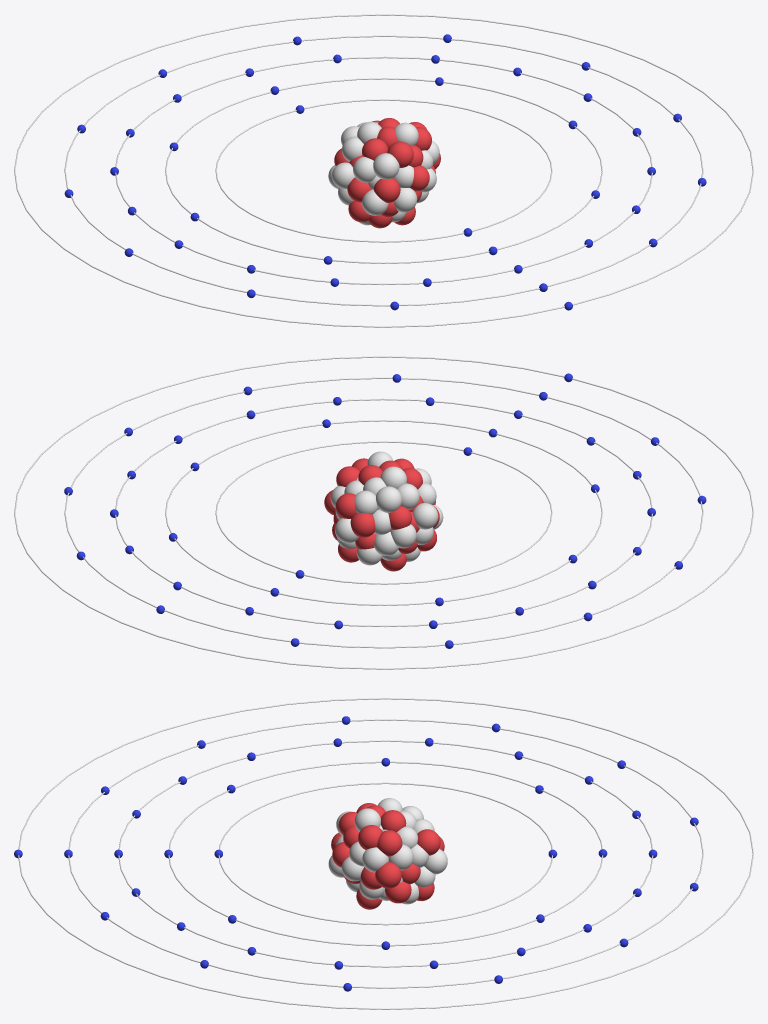
The model's file is Molybdän.glb.
3 views of the same model, one above another, from view 1: azimuth 30°, elevation 25°; view 2: azimuth 150°, elevation 25°; view 3: azimuth 270°, elevation 25° (orthographic).
Visible parts, largest first — view 1: O-Schale, N-Schale, M-Schale, L-Schale, K-Schale, Neutron 45; view 2: O-Schale, N-Schale, M-Schale, L-Schale, K-Schale, Neutron 53, Neutron 44, Proton 40; view 3: O-Schale, N-Schale, M-Schale, L-Schale, K-Schale, Proton 38.
Boxes of the visible parts, bbox=[...] form: O-Schale: bbox=[14, 14, 753, 327]; N-Schale: bbox=[64, 35, 703, 306]; M-Schale: bbox=[115, 56, 652, 285]; L-Schale: bbox=[165, 78, 602, 263]; K-Schale: bbox=[215, 99, 552, 242]; Neutron 45: bbox=[373, 153, 399, 179]; O-Schale: bbox=[14, 356, 753, 669]; N-Schale: bbox=[64, 377, 703, 648]; M-Schale: bbox=[115, 398, 652, 627]; L-Schale: bbox=[165, 420, 602, 605]; K-Schale: bbox=[215, 441, 552, 584]; Neutron 53: bbox=[376, 486, 401, 512]; Neutron 44: bbox=[412, 503, 438, 529]; Proton 40: bbox=[350, 513, 375, 537]; O-Schale: bbox=[18, 698, 753, 1009]; N-Schale: bbox=[68, 719, 703, 988]; M-Schale: bbox=[118, 740, 653, 967]; L-Schale: bbox=[168, 761, 603, 946]; K-Schale: bbox=[218, 782, 552, 925]; Proton 38: bbox=[375, 862, 401, 888].
Bounding box in the file's own units: 22.04 × 3.33 × 22.15.
